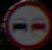No overtake: (5, 5, 48, 38)
